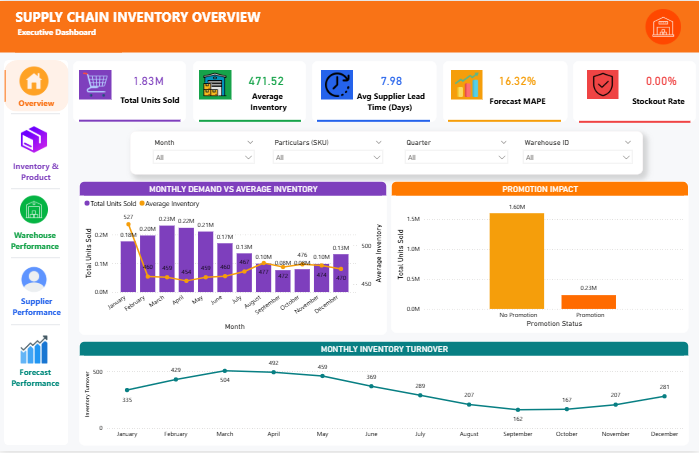

The dashboard page shown, as its layout file describes it:
{"tool":"powerbi","page":{"name":"Executive Overview","canvas":[1400,900],"ordinal":1},"visuals":[{"type":"shape","box":[1147.7,120,246,121.5],"z":0},{"type":"shape","box":[887.7,120,249.2,121.5],"z":1000},{"type":"shape","box":[626.2,119.5,249.1,122.4],"z":2000},{"type":"shape","box":[388.7,119.5,226,122.4],"z":3000},{"type":"shape","box":[148.3,119.5,226,122.4],"z":4000},{"type":"card","fields":{"Values":["FactInventory.Total Units Sold"]},"box":[243.3,138.2,109.4,43.2],"z":5000},{"type":"card","fields":{"Values":["FactInventory.Average Inventory"]},"box":[479.4,138.2,109,43.2],"z":6000},{"type":"card","fields":{"Values":["FactInventory.Average Supplier Lead Time"]},"box":[729.9,138,109.4,43.2],"z":7000},{"type":"card","fields":{"Values":["FactInventory.MAPE"]},"box":[981.8,138.2,109.4,43.2],"z":8000},{"type":"card","fields":{"Values":["FactInventory.Stockout Rate"]},"box":[1270.8,138.5,109.2,43.1],"z":9000},{"type":"shape","box":[0,0,1400,103.1],"z":10000},{"type":"textbox","box":[28.3,7.1,545.7,52.4],"z":11000},{"type":"textbox","box":[31.2,45.4,214,56.7],"z":12000},{"type":"shape","box":[10.9,117.8,128.7,770.5],"z":13000},{"type":"textbox","box":[20,187.7,109.2,32.3],"z":14000},{"type":"textbox","box":[16.9,313.8,115.4,60],"z":15000},{"type":"textbox","box":[13.8,452.3,115.4,64.6],"z":16000},{"type":"textbox","box":[15.4,584.6,118.5,61.5],"z":17000},{"type":"textbox","box":[13.8,726.2,116.9,58.5],"z":18000},{"type":"shape","box":[23.1,210.8,98.5,30.8],"z":19000},{"type":"textbox","box":[231,181.4,139.5,38.8],"z":20000},{"type":"image","box":[159.8,138.2,64.8,59],"z":21000},{"type":"image","box":[400.2,138.2,64.8,59],"z":22000},{"type":"textbox","box":[469.3,174.2,138.2,51.8],"z":23000},{"type":"textbox","box":[706.9,174,155.5,61.9],"z":24000},{"type":"image","box":[643.5,138.2,64,59],"z":25000},{"type":"textbox","box":[967.4,184.3,138.2,33.1],"z":26000},{"type":"image","box":[904.1,138.2,63.3,59],"z":27000},{"type":"textbox","box":[1251.8,184.5,138.2,33.6],"z":28000},{"type":"image","box":[1176.9,138.5,63.1,58.5],"z":29000},{"type":"image","box":[27.7,126.2,84.6,67.7],"z":30000},{"type":"shape","box":[262,260.5,1026.4,86.8],"z":31000},{"type":"image","box":[27.7,243.1,83.1,66.2],"z":32000},{"type":"shape","box":[23.1,360,98.5,30.8],"z":33000},{"type":"image","box":[27.7,384.6,83.1,66.2],"z":34000},{"type":"image","box":[27.7,523.1,83.1,66.2],"z":35000},{"type":"shape","box":[23.1,498.5,98.5,30.8],"z":36000},{"type":"shape","box":[23.1,632.3,98.5,30.8],"z":37000},{"type":"image","box":[27,663.1,83.1,66.2],"z":38000},{"type":"slicer","fields":{"Values":["DimDate.MonthName"]},"box":[297.7,269.8,223.3,68.2],"z":39000},{"type":"slicer","fields":{"Values":["DimProduct.SKU_ID"]},"box":[538,269.8,240.3,68.2],"z":40000},{"type":"lineClusteredColumnComboChart","title":"MONTHLY DEMAND VS AVERAGE INVENTORY","fields":{"Y":["FactInventory.Total Units Sold"],"Category":["DimDate.MonthName"],"Y2":["FactInventory.Average Inventory"]},"box":[159.5,360.3,615.9,308.4],"z":41000},{"type":"lineChart","title":"MONTHLY INVENTORY TURNOVER","fields":{"Y":["FactInventory.Inventory Turnover"],"Category":["DimDate.MonthName"]},"box":[159.7,679.1,1220.2,209.3],"z":42000},{"type":"clusteredColumnChart","title":"PROMOTION IMPACT","fields":{"Category":["FactInventory.Promotion Status"],"Y":["FactInventory.Total Units Sold"]},"box":[784.5,359.7,595.3,303.9],"z":43000},{"type":"slicer","fields":{"Values":["DimDate.Quarter"]},"box":[801.6,269.8,226.4,68.2],"z":44000},{"type":"slicer","fields":{"Values":["DimWarehouse.Warehouse_ID"]},"box":[1037.2,269.8,238.8,68.2],"z":45000},{"type":"image","box":[1288.4,7.8,80.6,86.8],"z":46000},{"type":"shape","box":[159,227,202.8,22.8],"z":47000},{"type":"shape","box":[399.4,227.8,203.9,23.3],"z":48000},{"type":"shape","box":[636.1,227.8,226.1,23.3],"z":49000},{"type":"shape","box":[898.3,228.3,226.1,23.3],"z":50000},{"type":"shape","box":[1159.4,229.4,222.8,23.3],"z":51000},{"type":"shape","box":[10.7,118,129.3,103.3],"z":52000},{"type":"shape","box":[3.3,138.1,16.7,63.3],"z":53000}]}

Visuals, with their boxes in screenshot pixels (x1, y1, x2, y2), scaled from the page's 1400x900 canvas onto the 699x453 screenshot:
shape: crop(573, 60, 696, 122)
shape: crop(443, 60, 568, 122)
shape: crop(313, 60, 437, 122)
shape: crop(194, 60, 307, 122)
shape: crop(74, 60, 187, 122)
card - FactInventory.Total Units Sold: crop(121, 70, 176, 91)
card - FactInventory.Average Inventory: crop(239, 70, 294, 91)
card - FactInventory.Average Supplier Lead Time: crop(364, 69, 419, 91)
card - FactInventory.MAPE: crop(490, 70, 545, 91)
card - FactInventory.Stockout Rate: crop(634, 70, 689, 91)
shape: crop(0, 0, 698, 52)
textbox: crop(14, 4, 287, 30)
textbox: crop(16, 23, 122, 51)
shape: crop(5, 59, 70, 447)
textbox: crop(10, 94, 65, 111)
textbox: crop(8, 158, 66, 188)
textbox: crop(7, 228, 65, 260)
textbox: crop(8, 294, 67, 325)
textbox: crop(7, 366, 65, 395)
shape: crop(12, 106, 61, 122)
textbox: crop(115, 91, 185, 111)
image: crop(80, 70, 112, 99)
image: crop(200, 70, 232, 99)
textbox: crop(234, 88, 303, 114)
textbox: crop(353, 88, 431, 119)
image: crop(321, 70, 353, 99)
textbox: crop(483, 93, 552, 109)
image: crop(451, 70, 483, 99)
textbox: crop(625, 93, 694, 110)
image: crop(588, 70, 619, 99)
image: crop(14, 64, 56, 98)
shape: crop(131, 131, 643, 175)
image: crop(14, 122, 55, 156)
shape: crop(12, 181, 61, 197)
image: crop(14, 194, 55, 227)
image: crop(14, 263, 55, 297)
shape: crop(12, 251, 61, 266)
shape: crop(12, 318, 61, 334)
image: crop(13, 334, 55, 367)
slicer - DimDate.MonthName: crop(149, 136, 260, 170)
slicer - DimProduct.SKU_ID: crop(269, 136, 389, 170)
"MONTHLY DEMAND VS AVERAGE INVENTORY" lineClusteredColumnComboChart: crop(80, 181, 387, 337)
"MONTHLY INVENTORY TURNOVER" lineChart: crop(80, 342, 689, 447)
"PROMOTION IMPACT" clusteredColumnChart: crop(392, 181, 689, 334)
slicer - DimDate.Quarter: crop(400, 136, 513, 170)
slicer - DimWarehouse.Warehouse_ID: crop(518, 136, 637, 170)
image: crop(643, 4, 684, 48)
shape: crop(79, 114, 181, 126)
shape: crop(199, 115, 301, 126)
shape: crop(318, 115, 430, 126)
shape: crop(449, 115, 561, 127)
shape: crop(579, 115, 690, 127)
shape: crop(5, 59, 70, 111)
shape: crop(2, 70, 10, 101)
